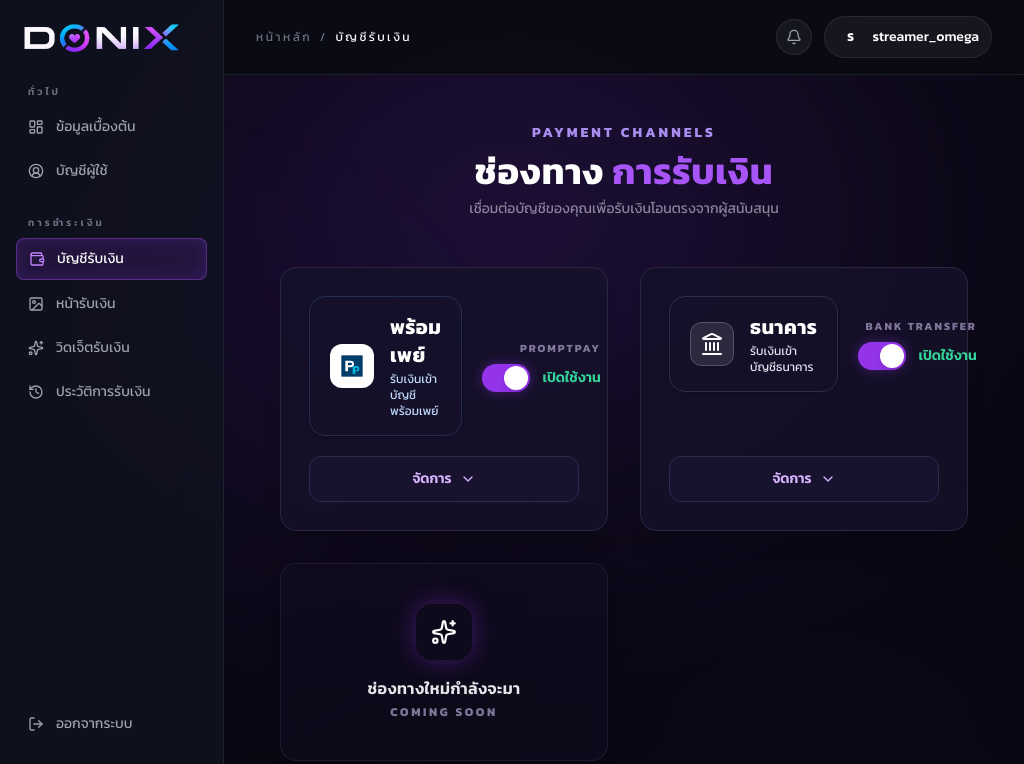
Scenario: PaymentPage Integration › saves Bank successfully and shows feedback toast
Expected: the heading "ธนาคาร" is shown, [750,313,817,341]
// Expand bank card
Click the button "จัดการ" below "รับเงินเข้าบัญชีธนาคาร" at coordinates (804, 479), box [669,456,939,502]
(page scrolled)
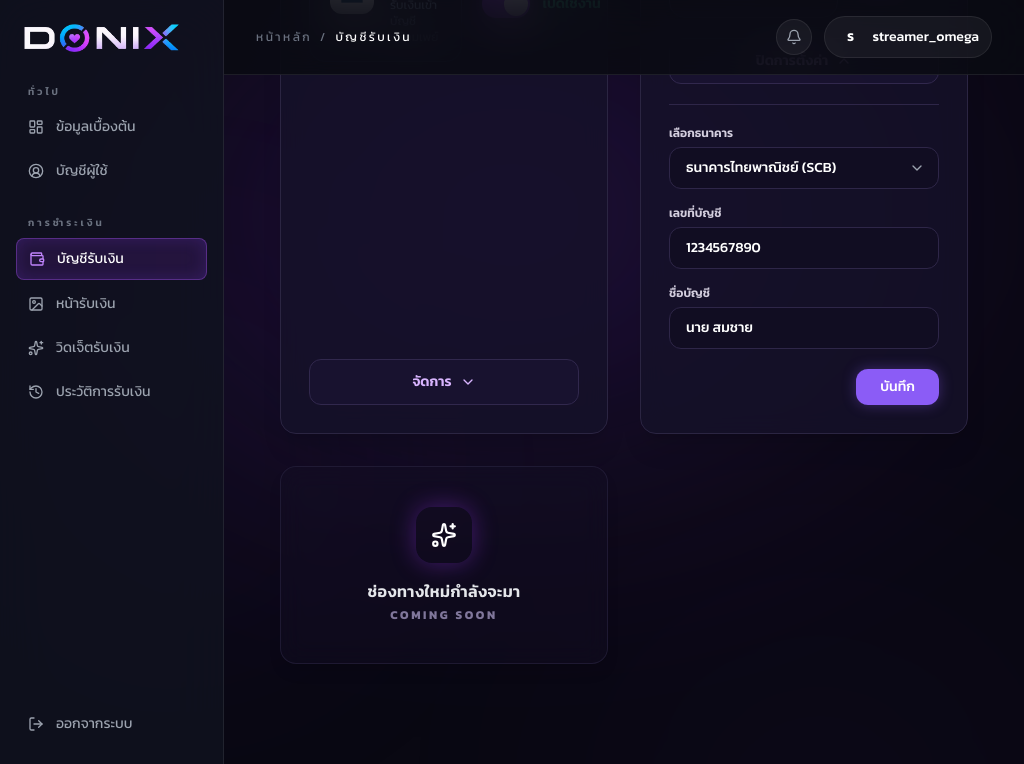
Click the button "บันทึก" at coordinates (898, 387), box [856,369,939,405]
(page scrolled)
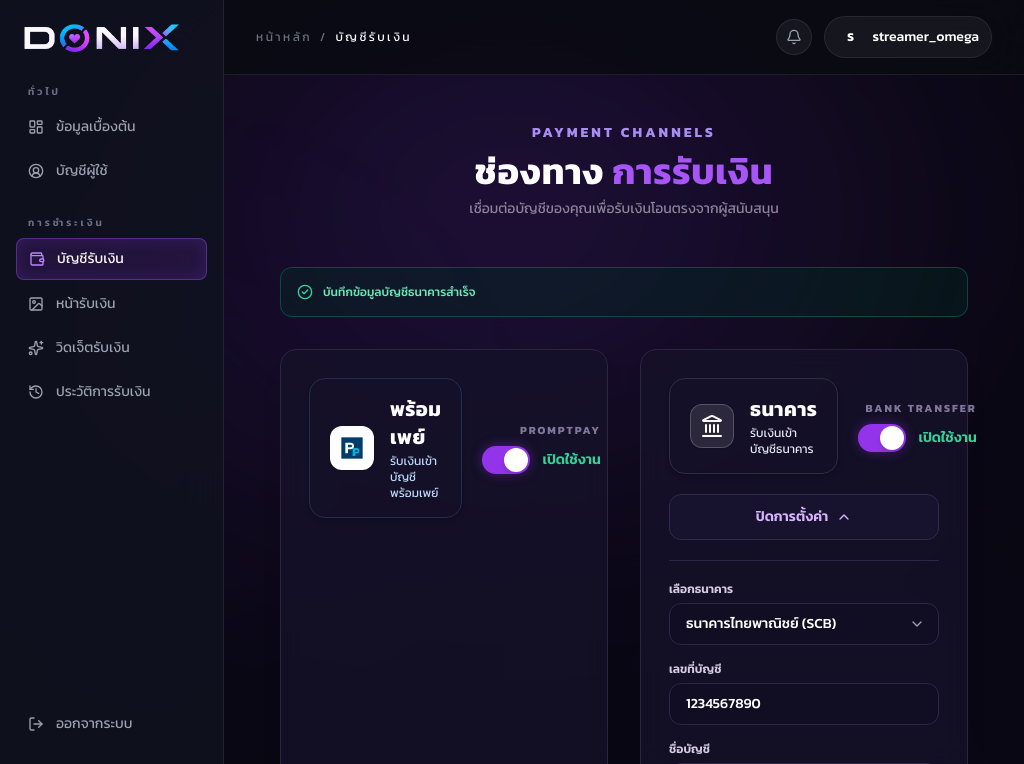
Expected: the text "บันทึกข้อมูลบัญชีธนาคารสำเร็จ" is shown, [323,284,475,300]
